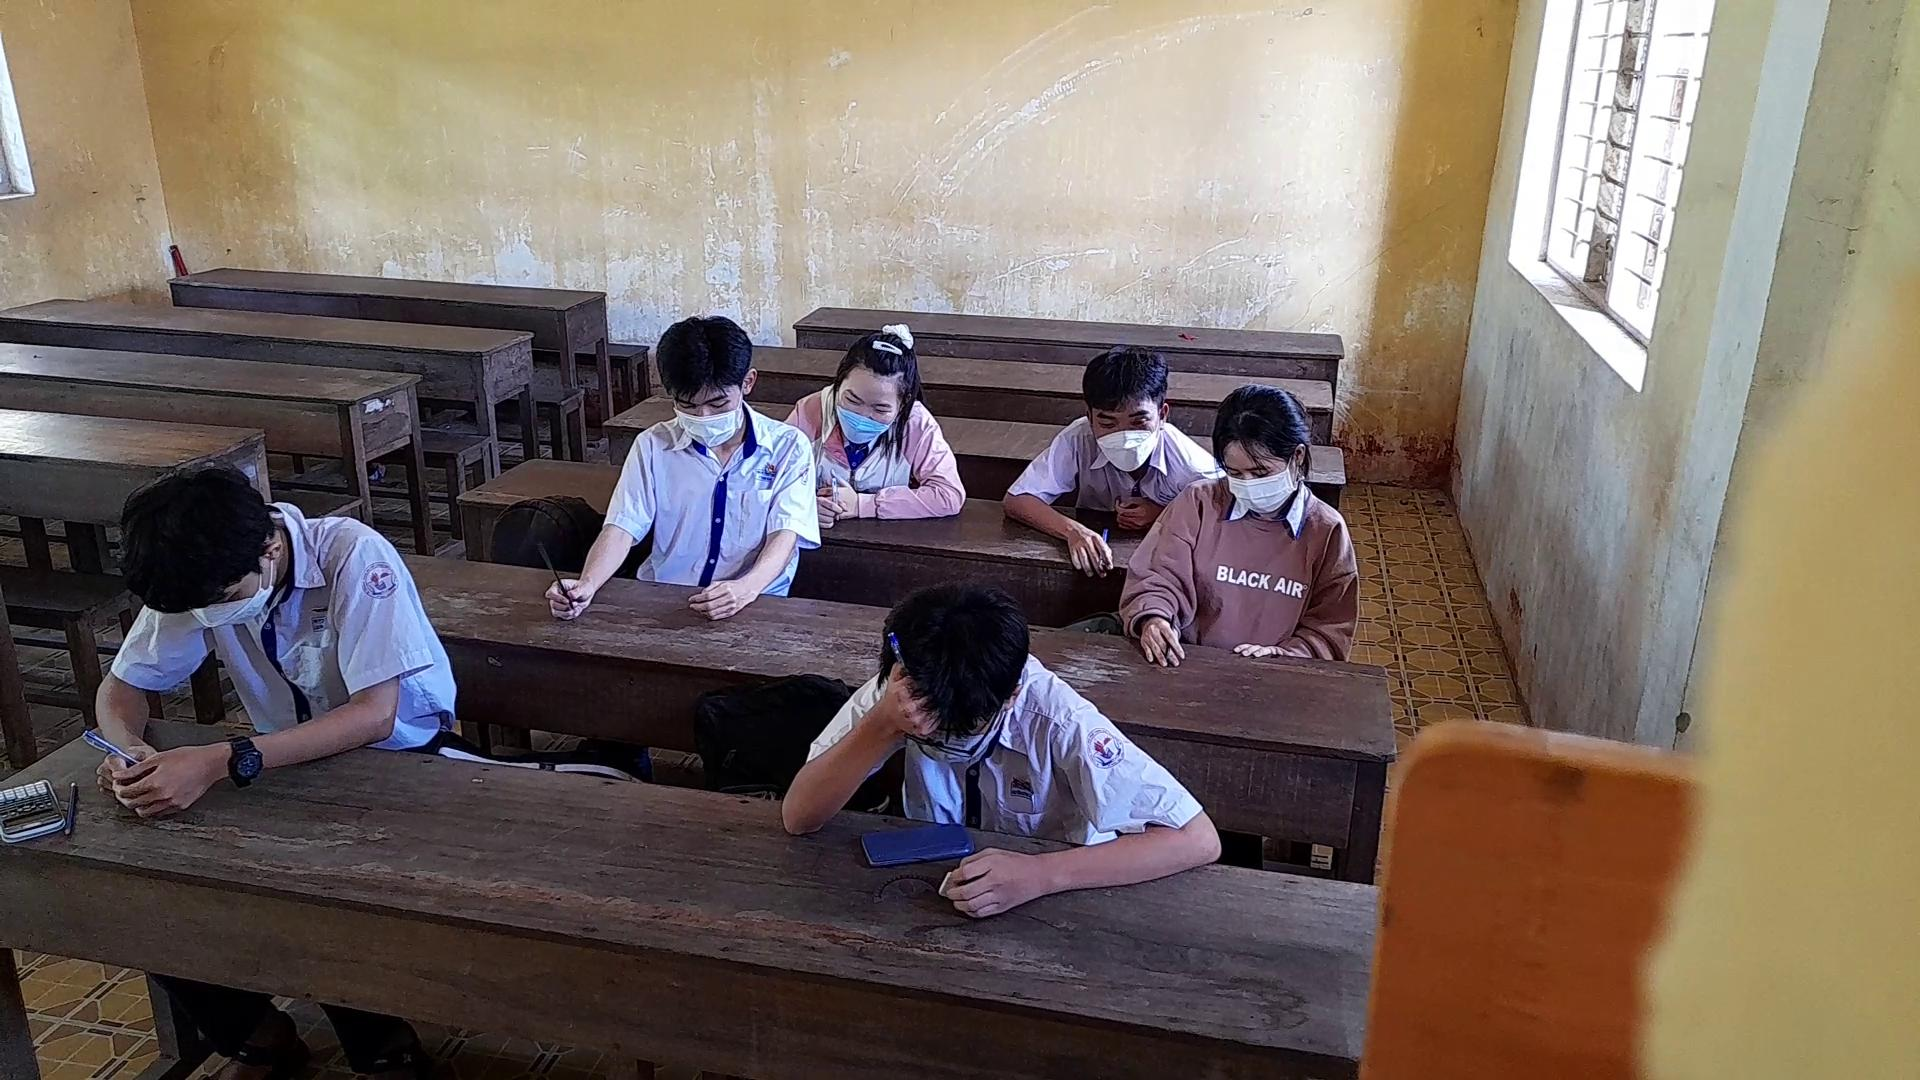Bend Over The Desk: (621, 297, 767, 447), (1203, 377, 1333, 521)
Normal: (79, 444, 458, 828), (762, 301, 968, 530), (1002, 320, 1179, 584)
Wave: (777, 647, 942, 839)
